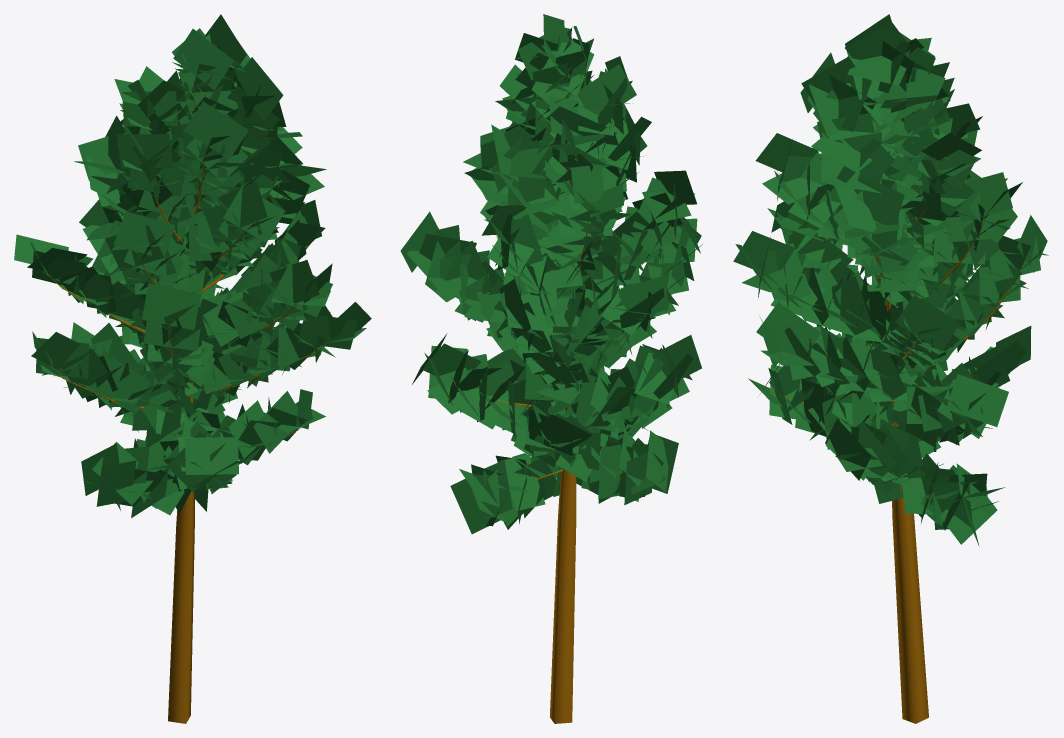
The model's file is treeYukai.dae.
3 views of the same model, side by side, from view 1: azimuth 30°, elevation 25°; view 2: azimuth 150°, elevation 25°; view 3: azimuth 270°, elevation 25° (orthographic). The views are drawn at different scales.
Visible parts, largest first — view 1: leaves, tree; view 2: leaves, tree; view 3: leaves, tree.
Part boxes in pixels (left/top/right/bottom): leaves: left=14, top=14, right=371, bottom=518; tree: left=45, top=72, right=331, bottom=723; leaves: left=400, top=14, right=702, bottom=534; tree: left=475, top=85, right=681, bottom=723; leaves: left=733, top=14, right=1048, bottom=546; tree: left=761, top=118, right=1027, bottom=723.
Size of the model in its own units: 7.74 by 17.98 by 7.25.
